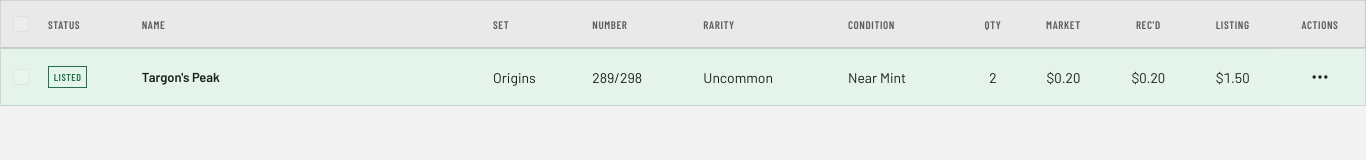
it: CardTable display-first listing price editing › activates a decimal editor with auto-selected value and accessible save/cancel controls
Click the button named "edit listing price" at (1233, 77), box left=1216, top=68, right=1250, bottom=86
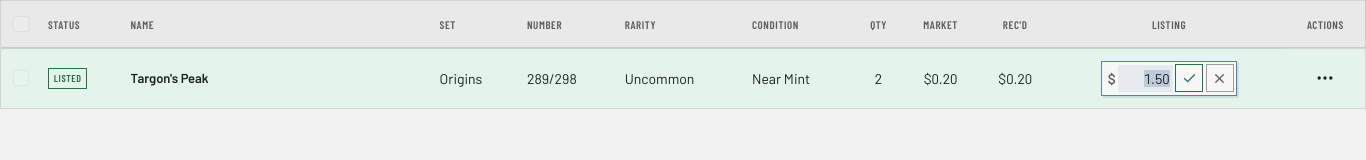
Check: the field named "listing price for targon's peak" holds "1.50", box left=1118, top=65, right=1173, bottom=92
Check: the button named "save listing price" is shown, box left=1175, top=64, right=1203, bottom=92
Check: the button named "cancel editing listing price" is shown, box left=1206, top=64, right=1234, bottom=92
